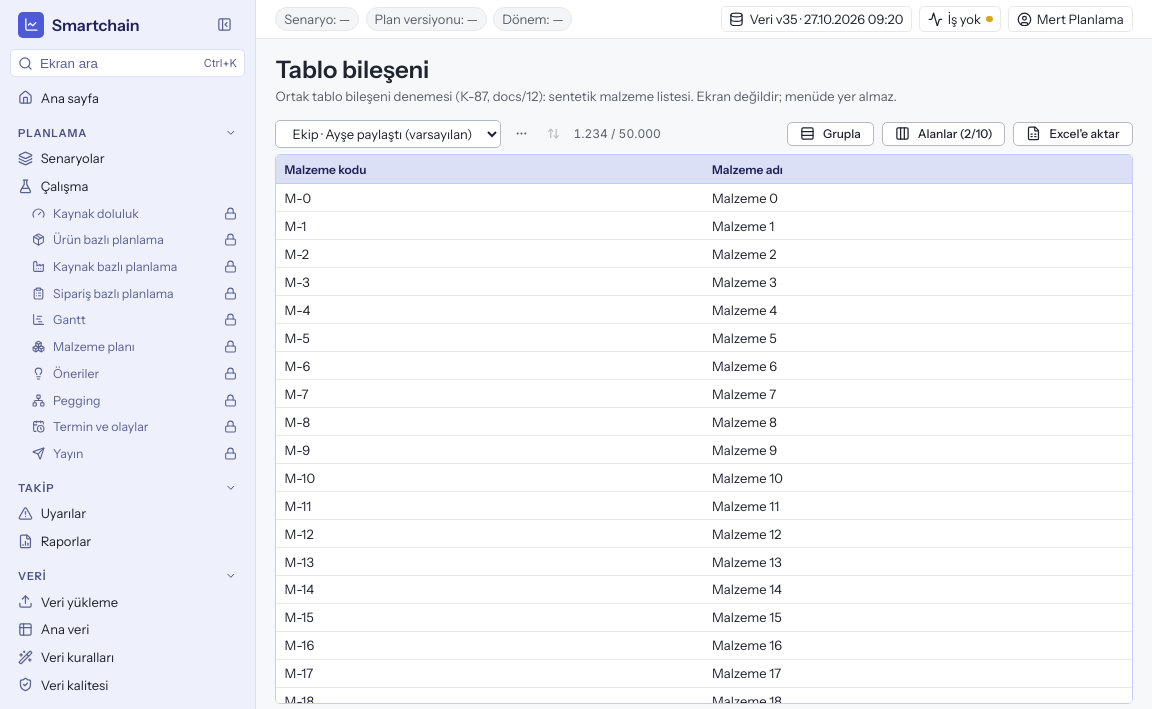
Test case: kayıtlı görünüm (U-9, K-89) › başkasının paylaştığı görünümde Kaydet ve Sil pasif, nedeni ipucunda (K-100); Farklı kaydet açık
Click the button "Malzeme kodu": (326, 169) [276,155,704,183]
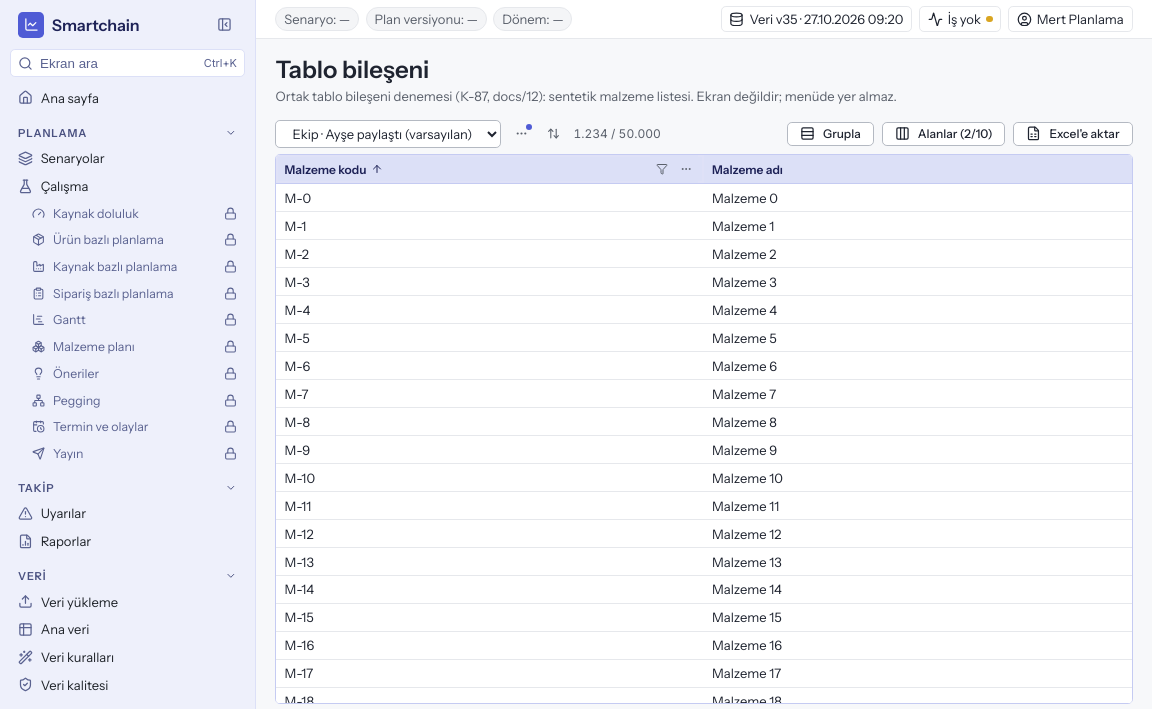
Check: the picture named "Kaydedilmemiş değişiklik" is shown, box [526,124,532,130]
Click the button named "Görünüm işlemleri": (522, 134) [510,122,534,146]
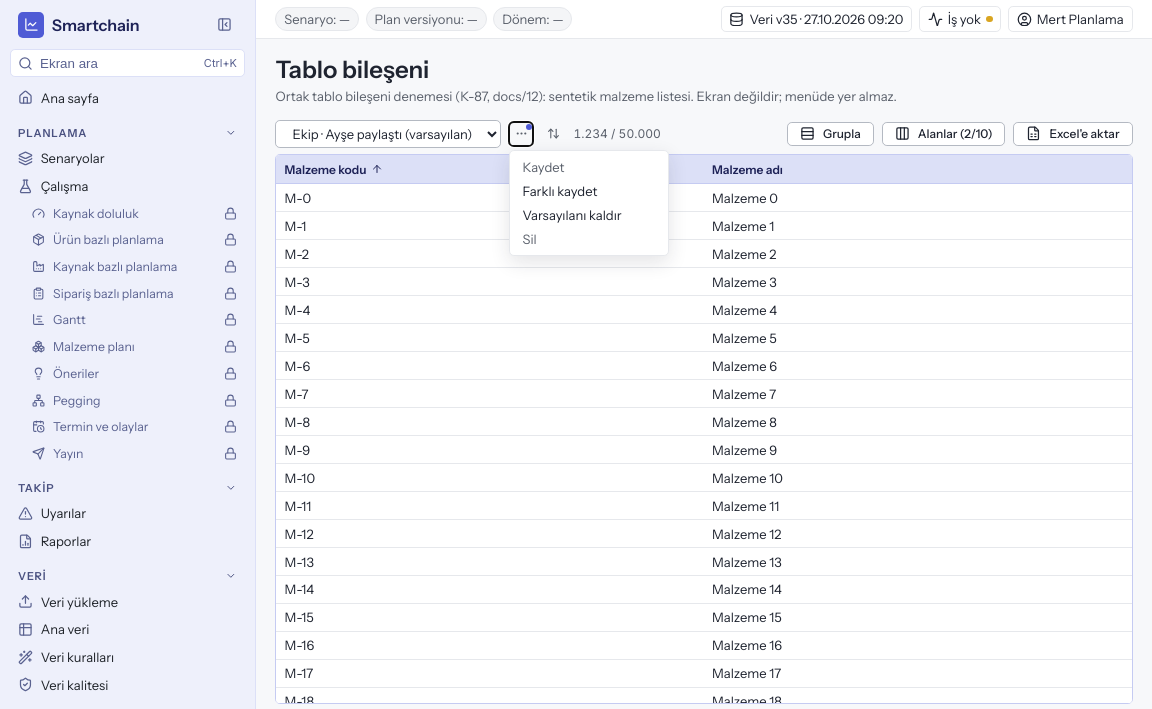
Check: the menu item "Kaydet" is disabled, box [510,155,668,179]
Check: the menu item "Sil" is disabled, box [510,227,668,251]
Check: the menu item "Farklı kaydet" is enabled, box [510,179,668,203]
